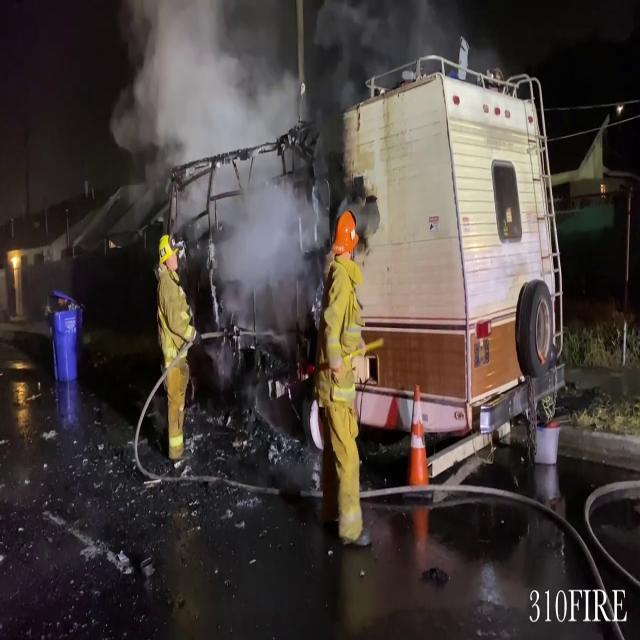Smoke: (110, 1, 334, 311)
